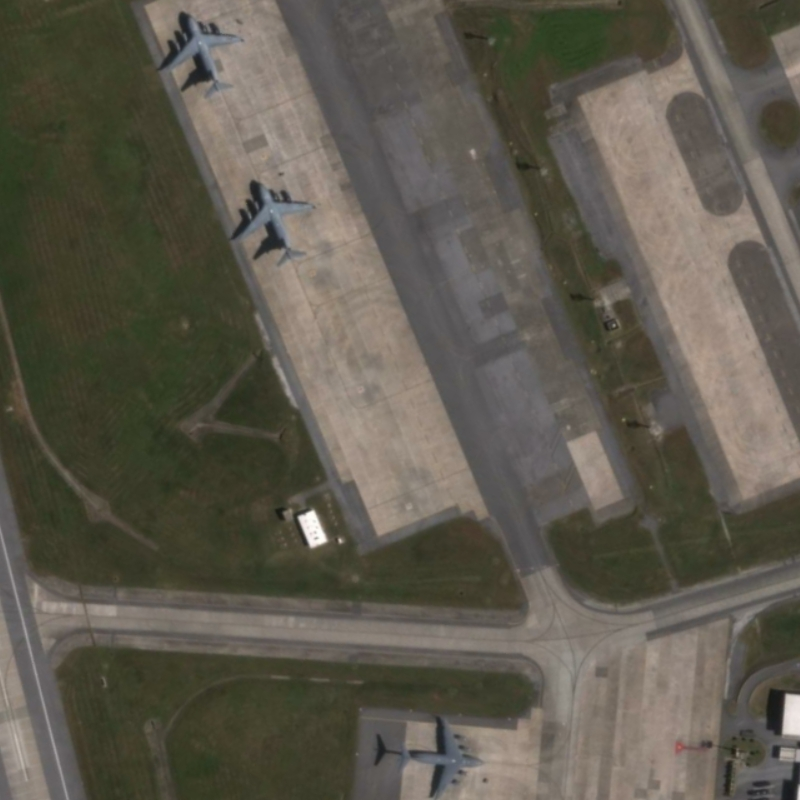A3: (154, 11, 247, 104), (228, 177, 319, 272), (396, 711, 489, 800)
